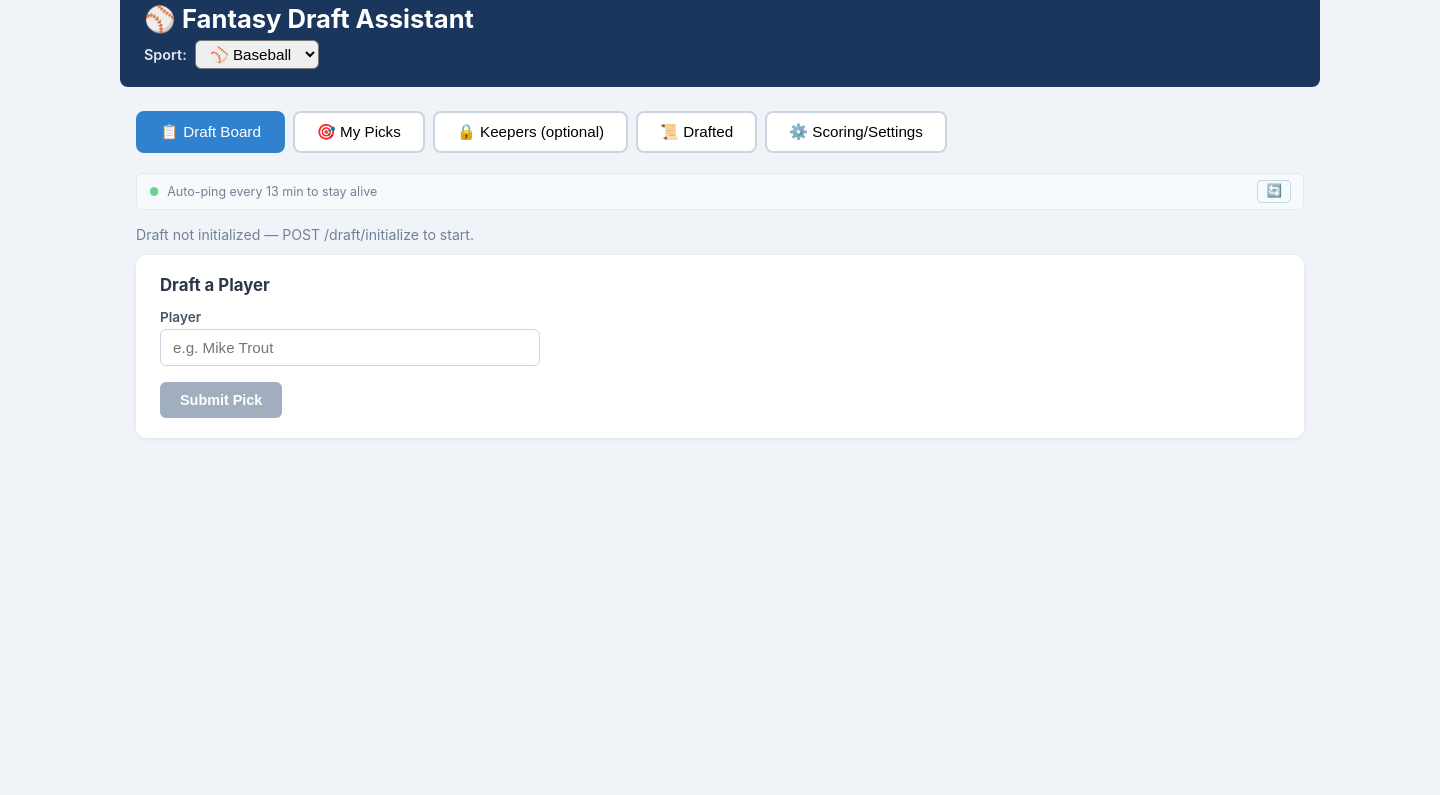
Test: Tab navigation › switching tabs clears banners
This screenshot has width=1440, height=795.
Click the tab "🔒 Keepers (optional)". click: point(530, 132)
box: [433, 111, 628, 153]
(page scrolled)
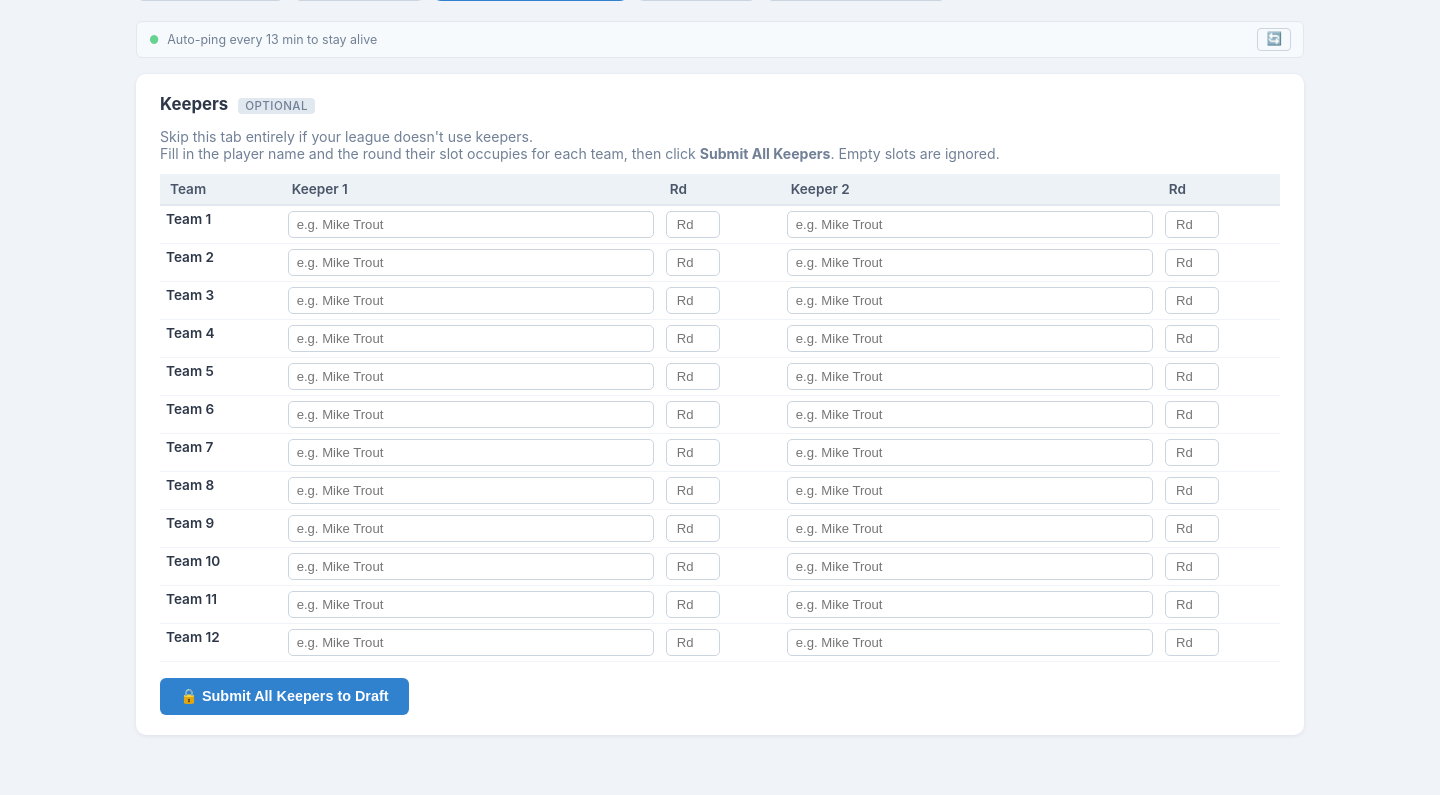
Click the button "🔒 Submit All Keepers to Draft". click: point(284, 697)
box: [160, 678, 408, 716]
(page scrolled)
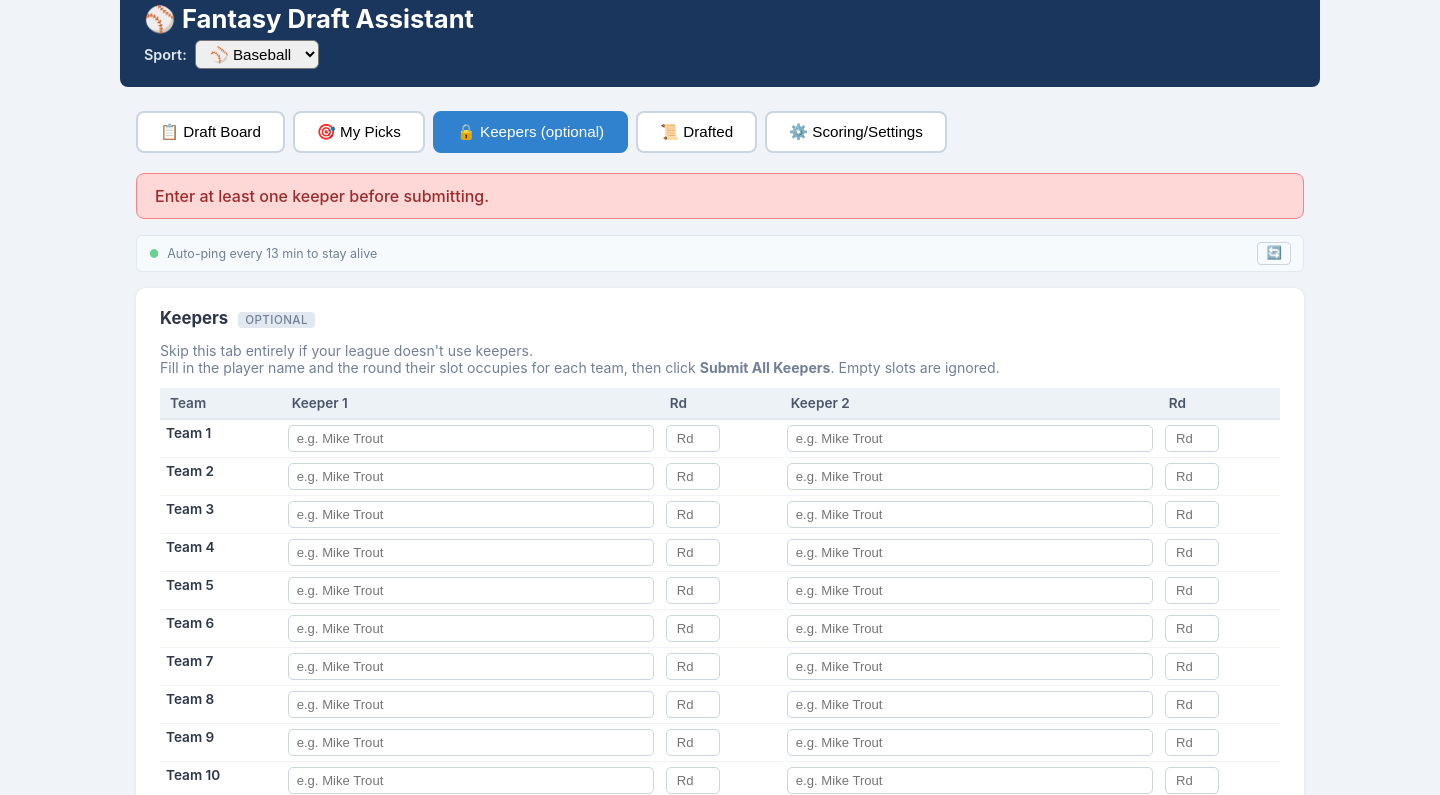
Expected: the text "Enter at least one keeper before submitting." is shown, [136, 173, 1304, 219]
Click the tab "📋 Draft Board". click: point(210, 132)
box: [136, 111, 285, 153]
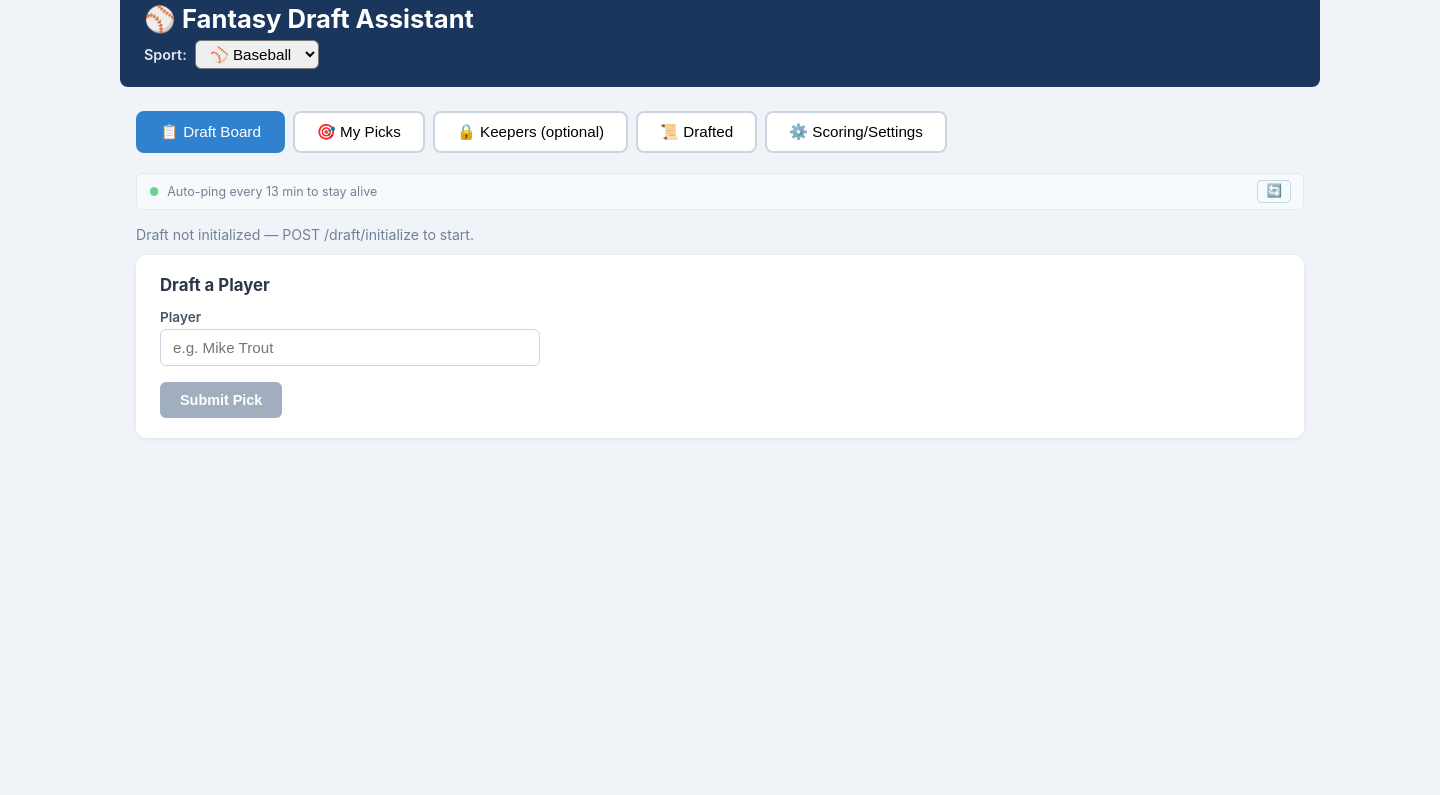
Expected: the text with test id "error-msg" is gone
